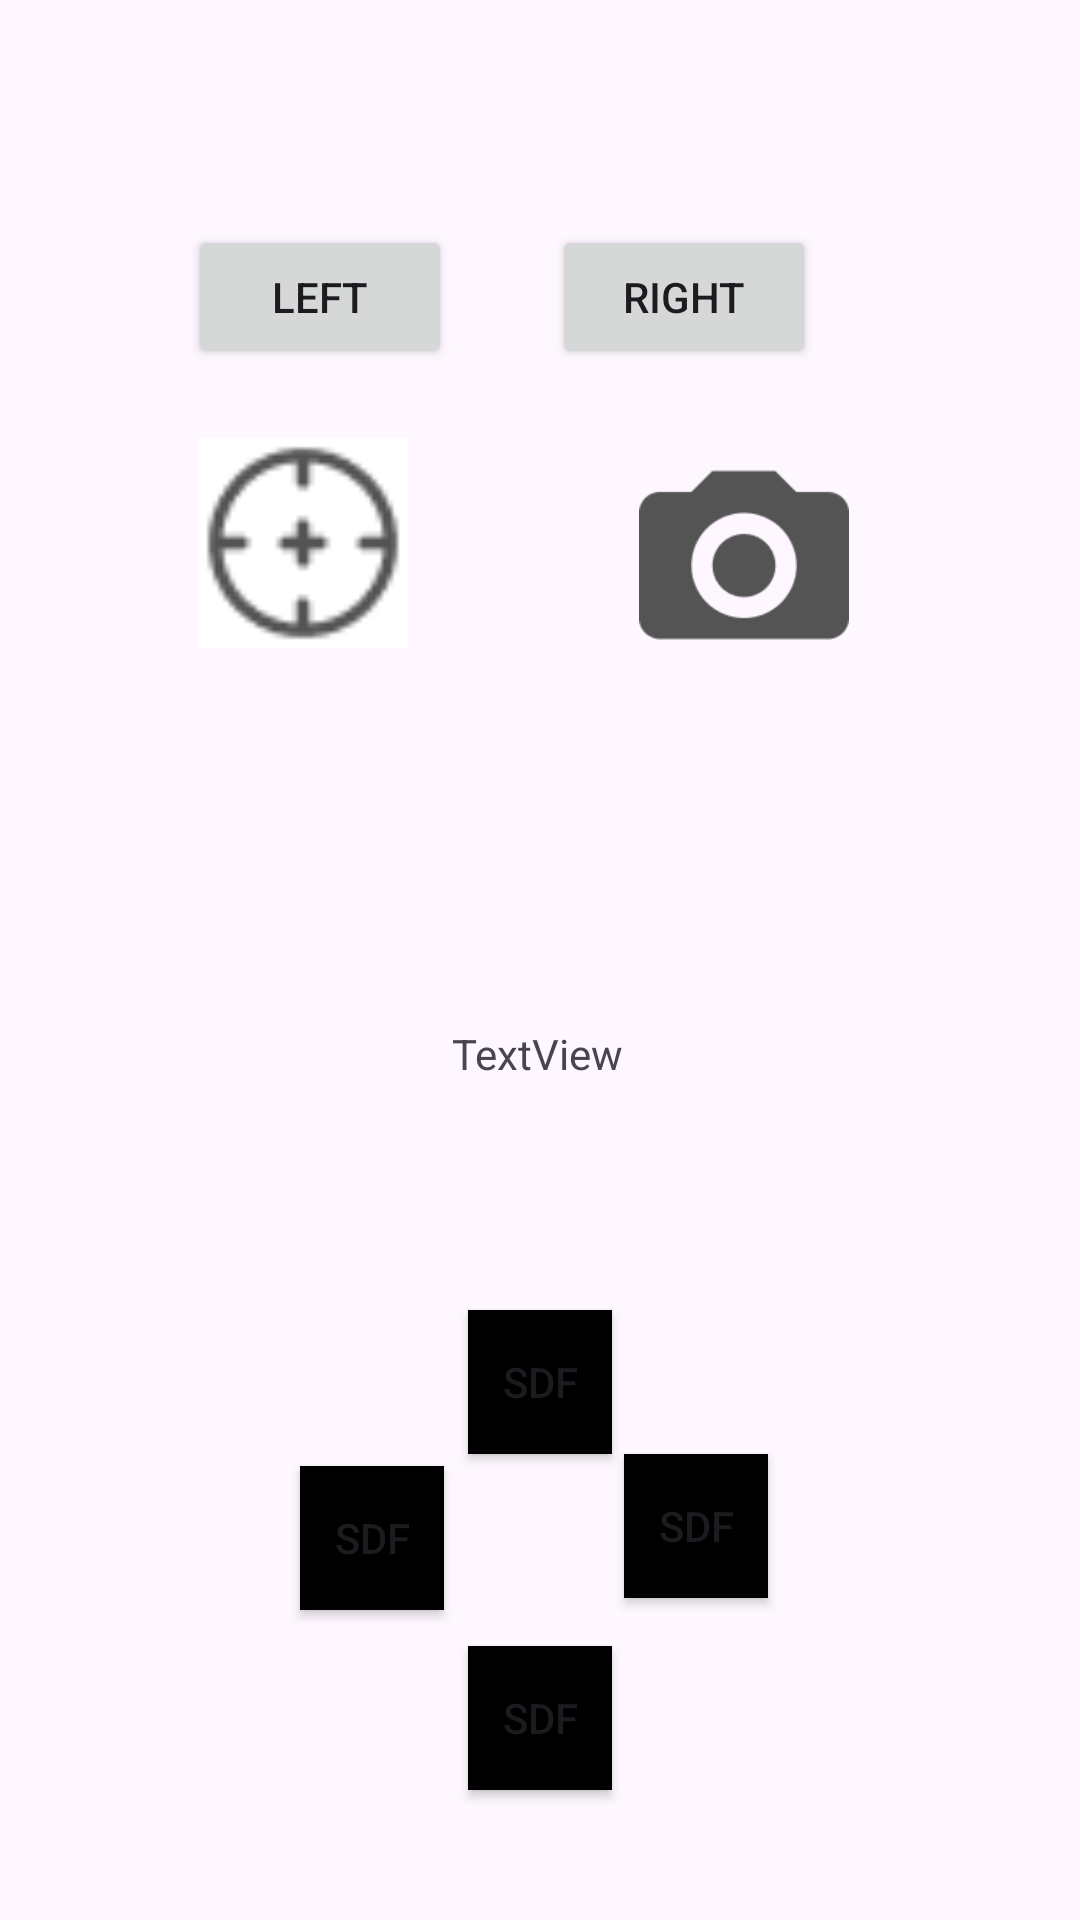

Locate icon controls on the screen. Image size 1080w x 1920h, boxes as (x1, y1, x2, y2).
camera: (639, 470, 849, 640)
pos: (207, 447, 399, 639)
